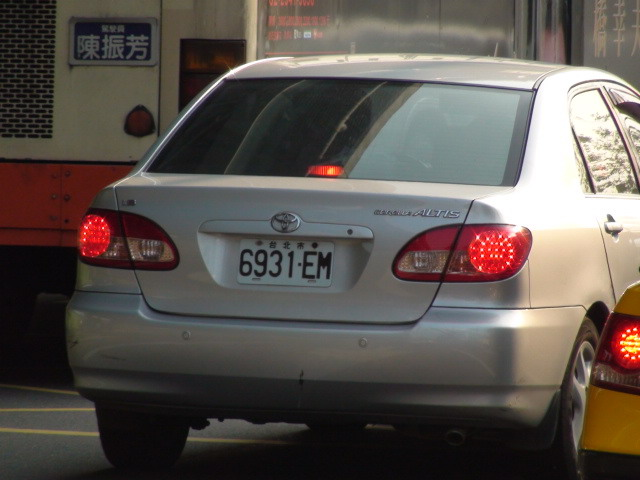plate: (236, 236, 337, 289)
